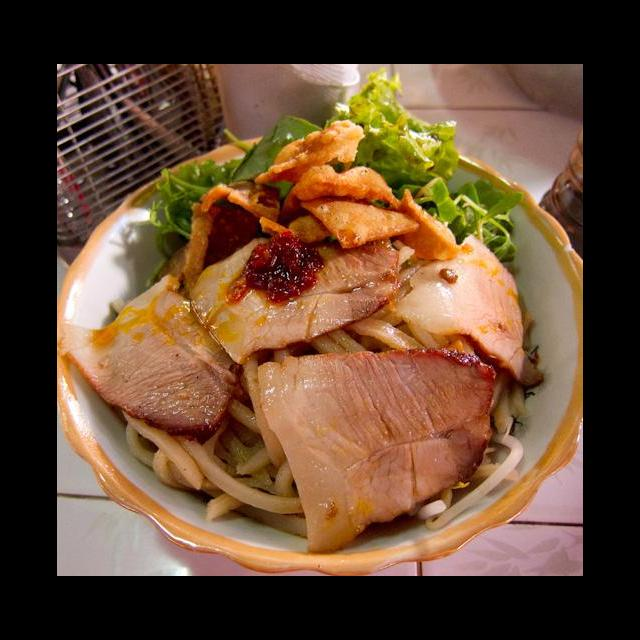banh da: (153, 175, 284, 301), (250, 116, 370, 194), (275, 159, 405, 228), (283, 193, 422, 255), (380, 186, 464, 264)
mi: (115, 354, 316, 542), (301, 280, 463, 366)
thit heo: (252, 346, 500, 560), (180, 214, 408, 368), (62, 267, 243, 440), (388, 231, 548, 392)
